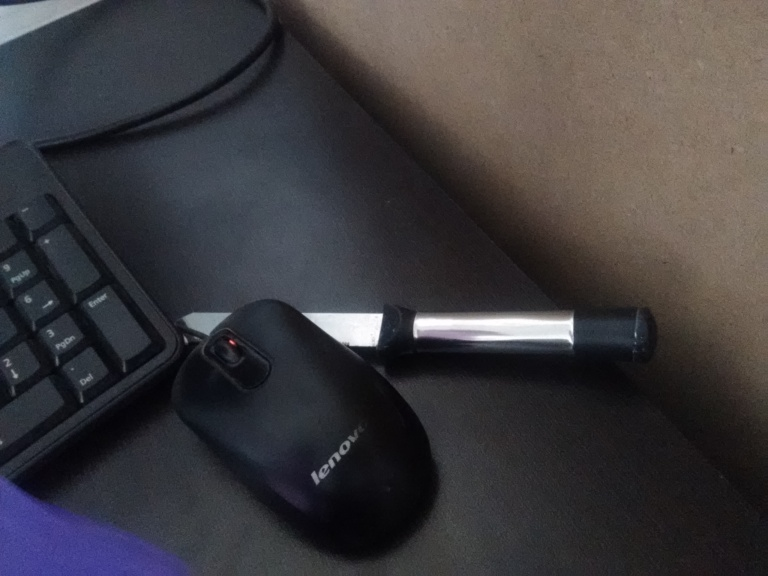knife: (176, 293, 660, 370)
